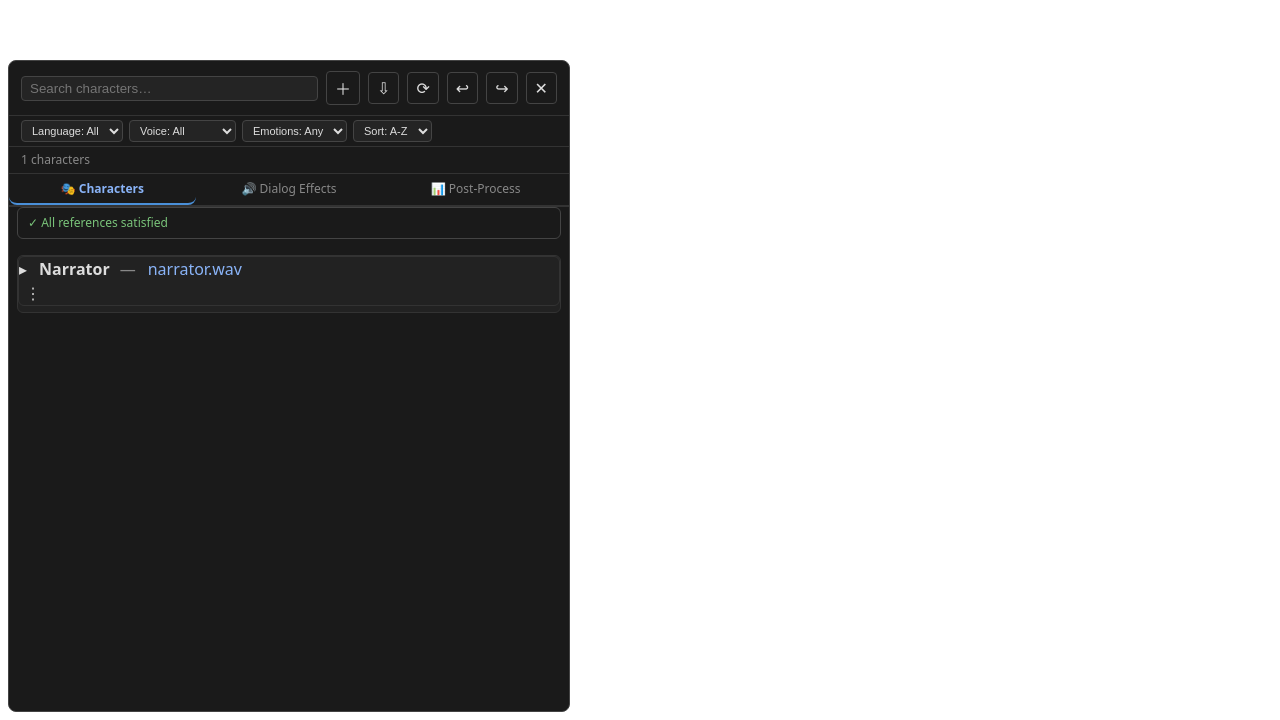
Test: Phase 13 integration: create character flow (UI) › duplicate create surfaces an error, list unchanged
expect the button with test id "character-bar-Narrator" is shown: met, box [17,255,561,313]
Click the button with test id "character-add".
click(343, 88)  # box [326,71,360,105]
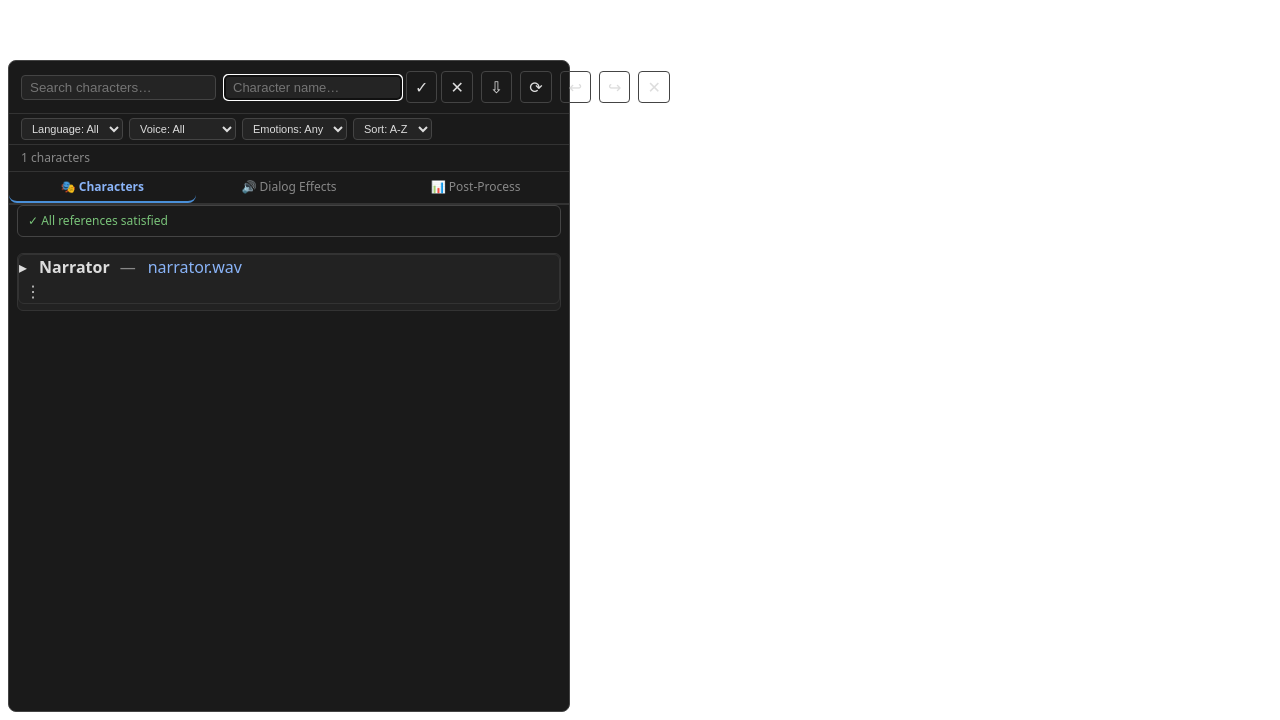
Type "Narrator" into the field with test id "character-new-name".
click(313, 87); type("Narrator")  # box [224,74,402,100]
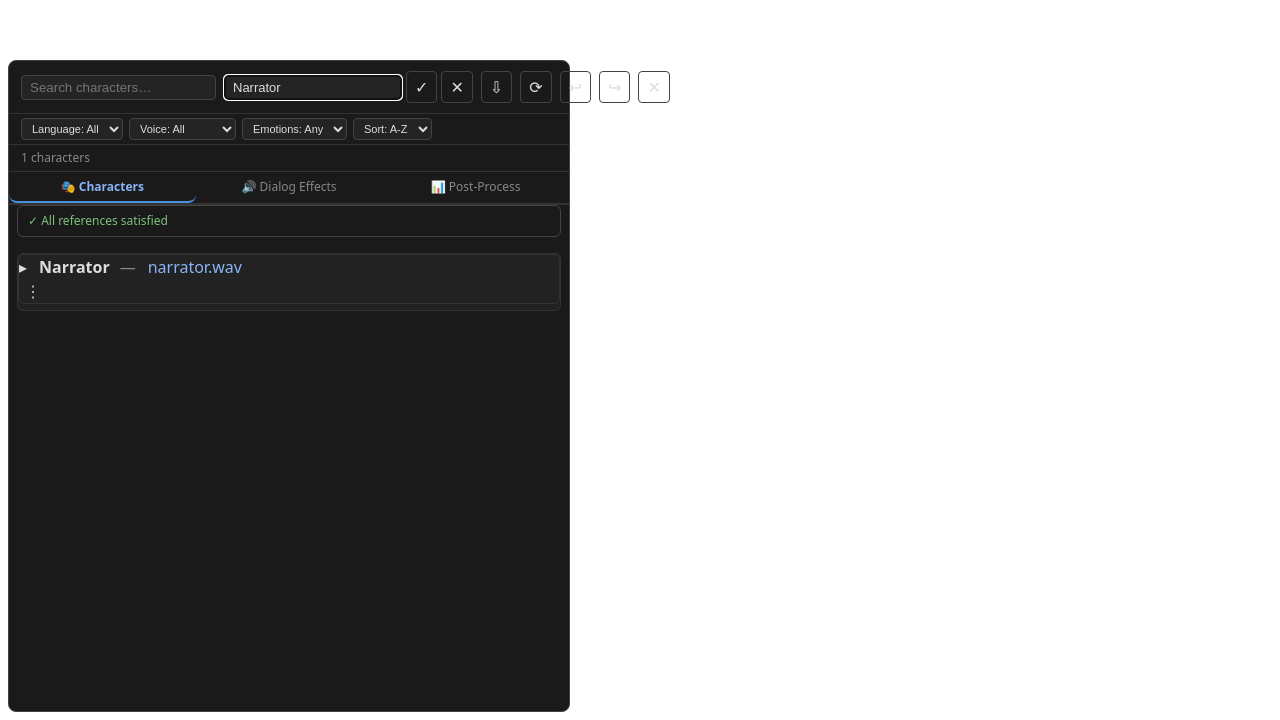
Click the button with test id "character-create-confirm".
click(422, 87)  # box [406,71,437,103]
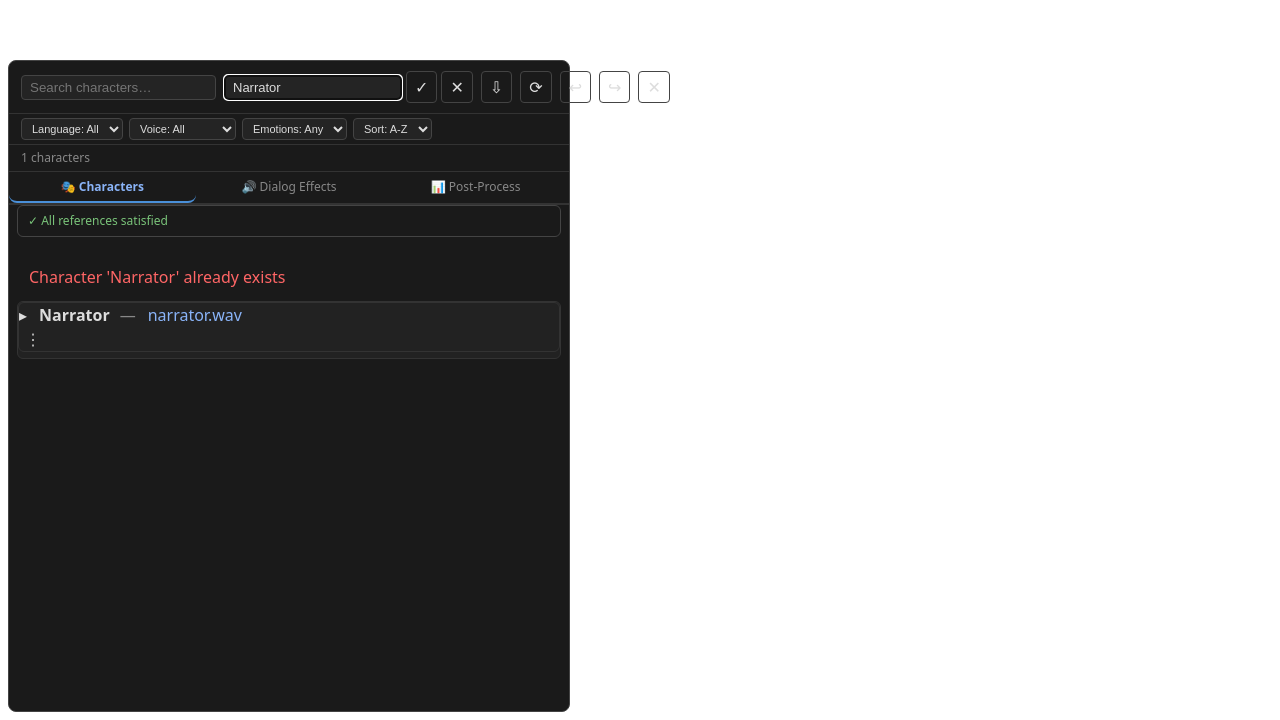
expect the text "Character 'Narrator' already exists" is shown: met, box [29,266,286,288]
